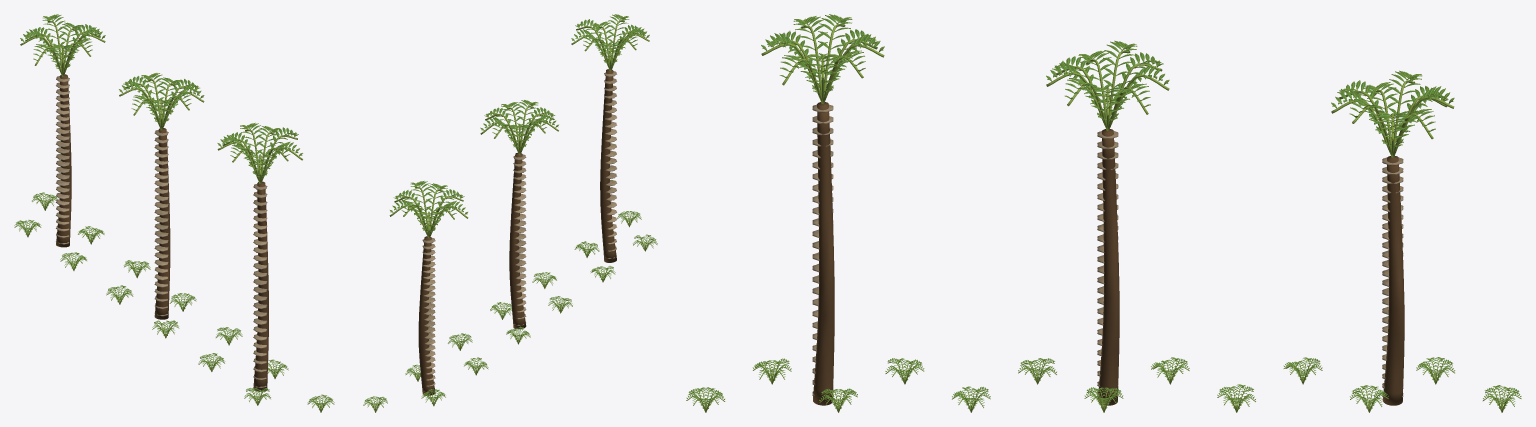
3 renders of one model, left to right at view 1: azimuth 30°, elevation 25°; view 2: azimuth 150°, elevation 25°; view 3: azimuth 270°, elevation 25°, orthographic. The views are drawn at different scales.
Visible parts, largest first — view 1: C01_SPEC_Leaf new growth_export, C01_SPEC_Leaf jade_export, C01_SPEC_Matrix sandstone_export, C01_SPEC_Bark_export; view 2: C01_SPEC_Leaf new growth_export, C01_SPEC_Leaf jade_export, C01_SPEC_Bark_export, C01_SPEC_Matrix sandstone_export; view 3: C01_SPEC_Leaf new growth_export, C01_SPEC_Bark_export, C01_SPEC_Leaf jade_export, C01_SPEC_Matrix sandstone_export.
Boxes of the visible parts, x1,y1,x2,y2 form: C01_SPEC_Leaf new growth_export: [14, 14, 334, 412]; C01_SPEC_Leaf jade_export: [14, 14, 334, 407]; C01_SPEC_Matrix sandstone_export: [56, 76, 267, 388]; C01_SPEC_Bark_export: [56, 74, 268, 391]; C01_SPEC_Leaf new growth_export: [363, 14, 657, 412]; C01_SPEC_Leaf jade_export: [364, 14, 657, 410]; C01_SPEC_Bark_export: [418, 69, 616, 395]; C01_SPEC_Matrix sandstone_export: [422, 71, 616, 392]; C01_SPEC_Leaf new growth_export: [686, 14, 1521, 412]; C01_SPEC_Bark_export: [813, 102, 1404, 405]; C01_SPEC_Leaf jade_export: [687, 15, 1521, 409]; C01_SPEC_Matrix sandstone_export: [812, 104, 1403, 397].
Bounding box in the file's own units: 1.57 × 5.18 × 10.7.
